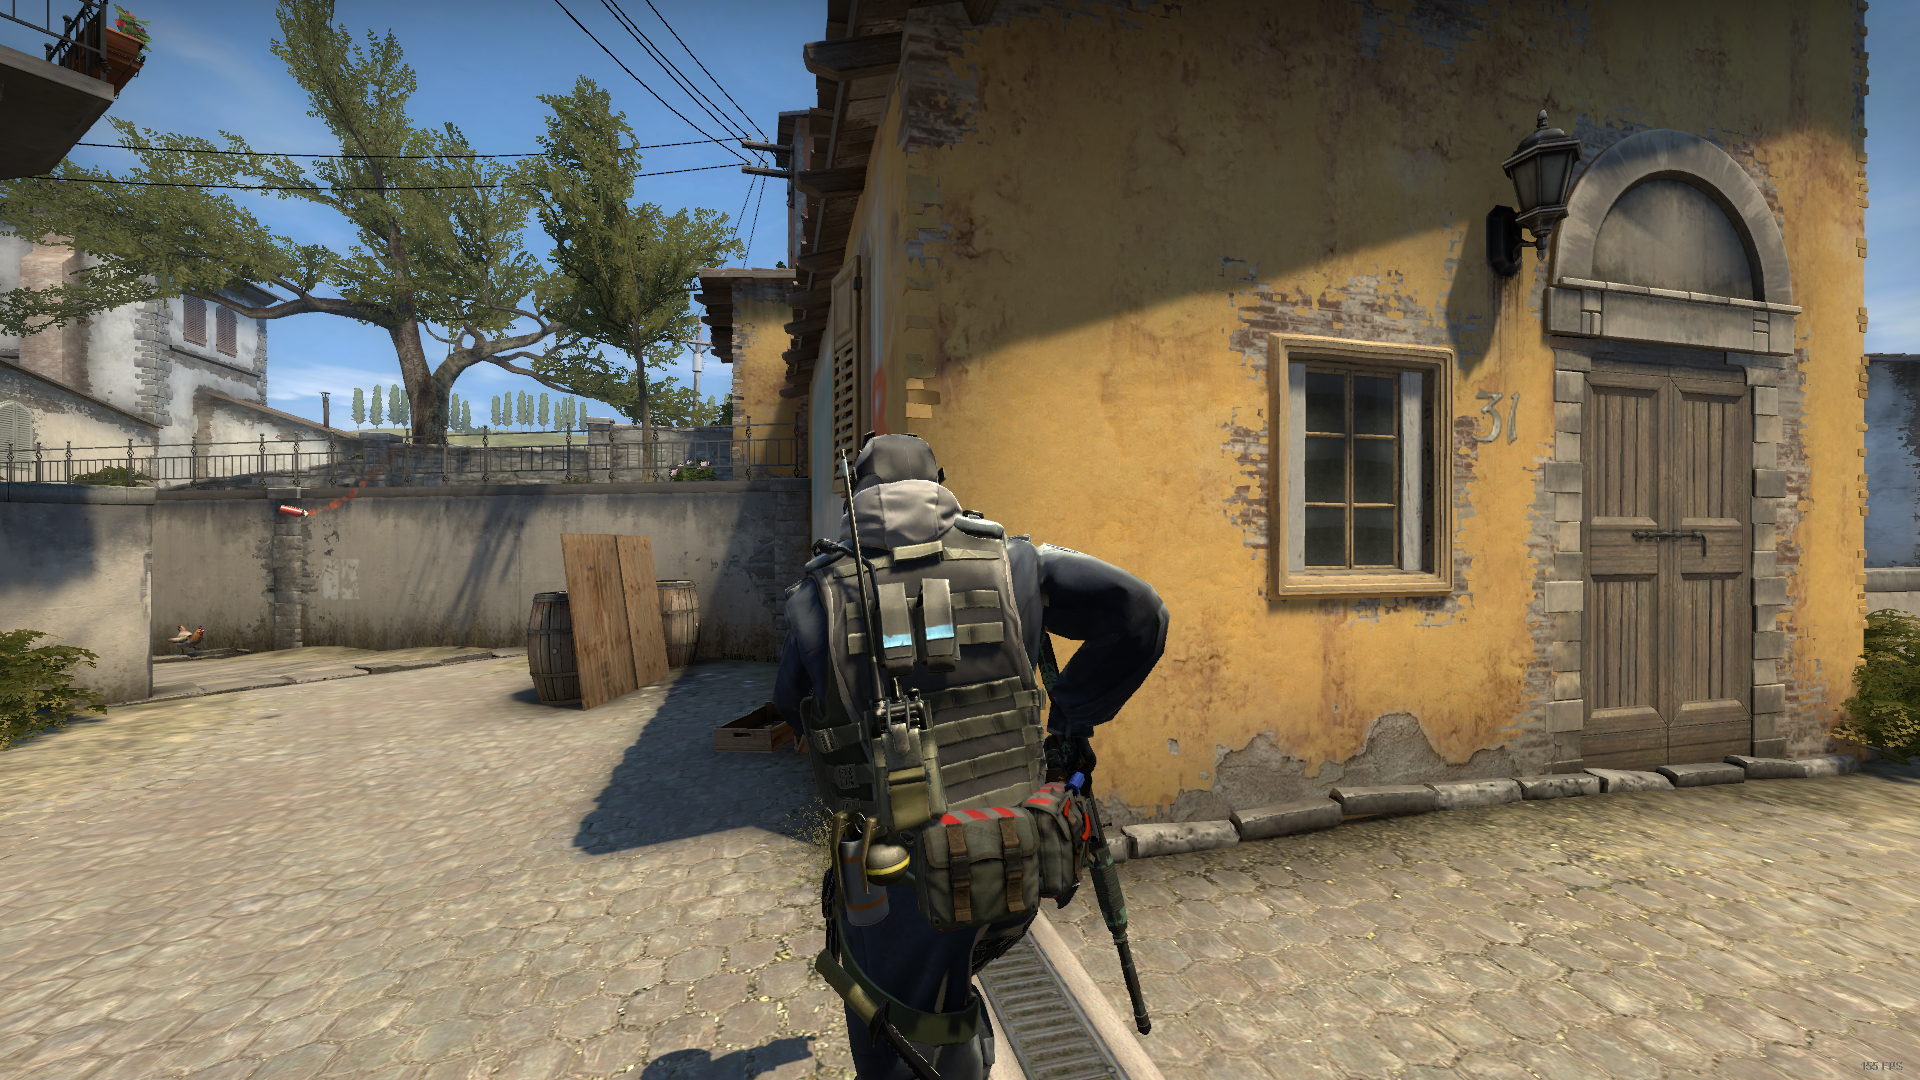ct: (770, 433, 1170, 1080)
